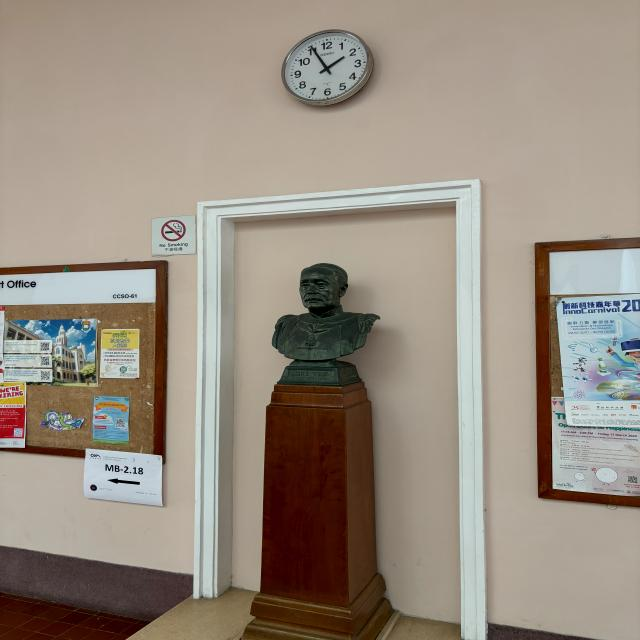loke_yew_statue: (259, 256, 388, 391)
loke_yew_statue_base: (235, 378, 403, 640)
